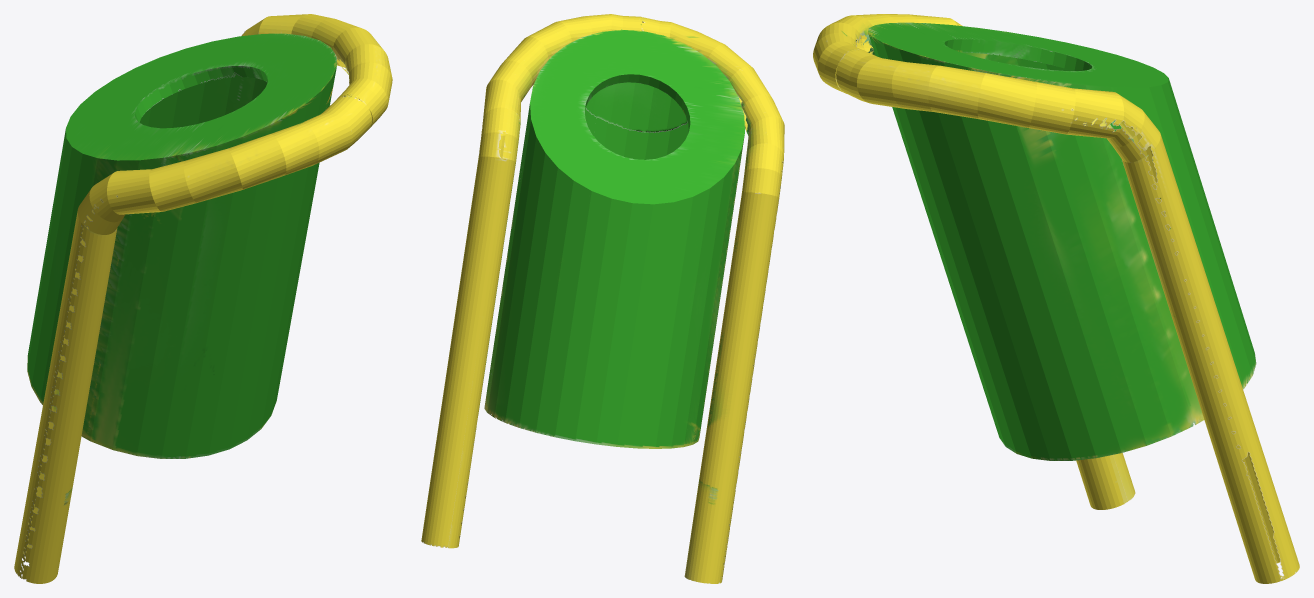
File: basurero copia.obj
3 views of the same model, side by side, from view 1: azimuth 30°, elevation 25°; view 2: azimuth 150°, elevation 25°; view 3: azimuth 270°, elevation 25° (orthographic). The views are drawn at different scales.
Bounding box in the file's own units: 286 × 489 × 382.
1 material, 1 textured.
